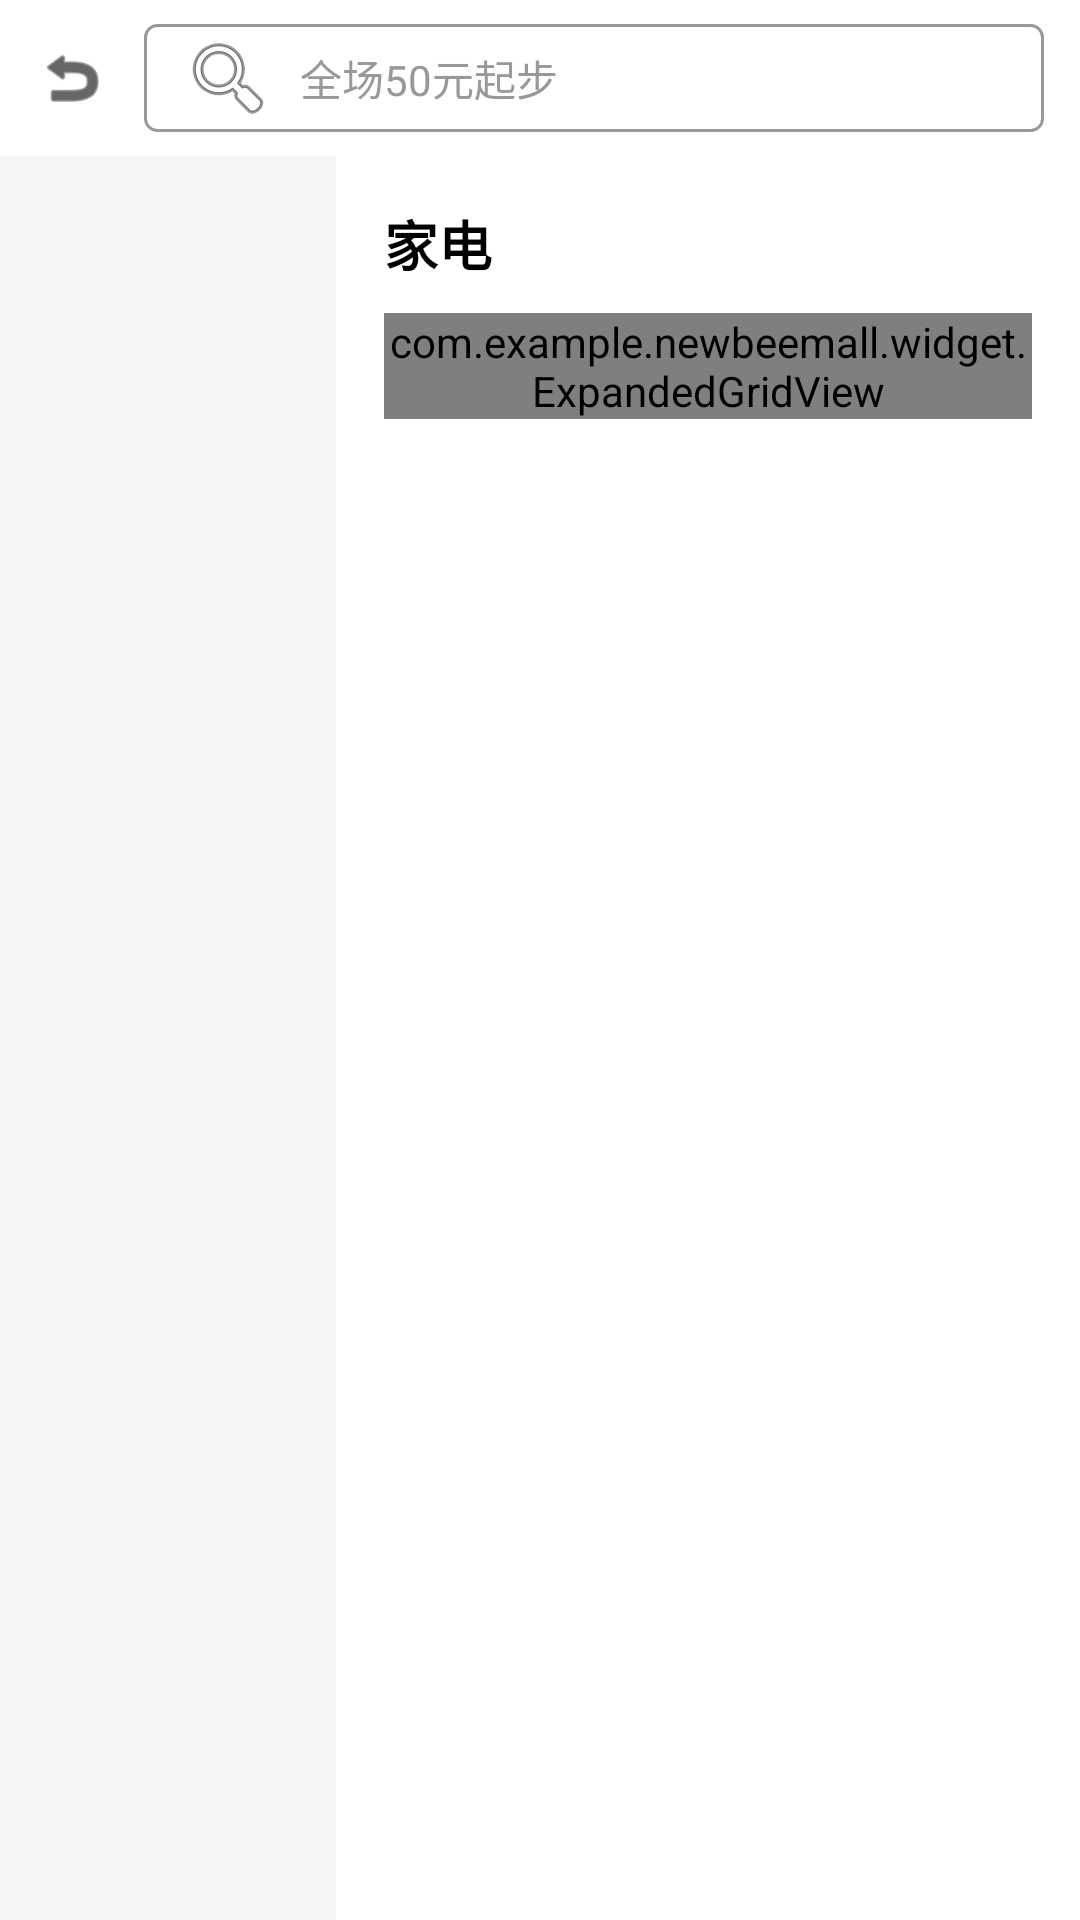

Screen size 1080 × 1920. Icon name, then its box in pixels as Rect(x1, y1, x2, y2):
revert: Rect(47, 55, 99, 102)
